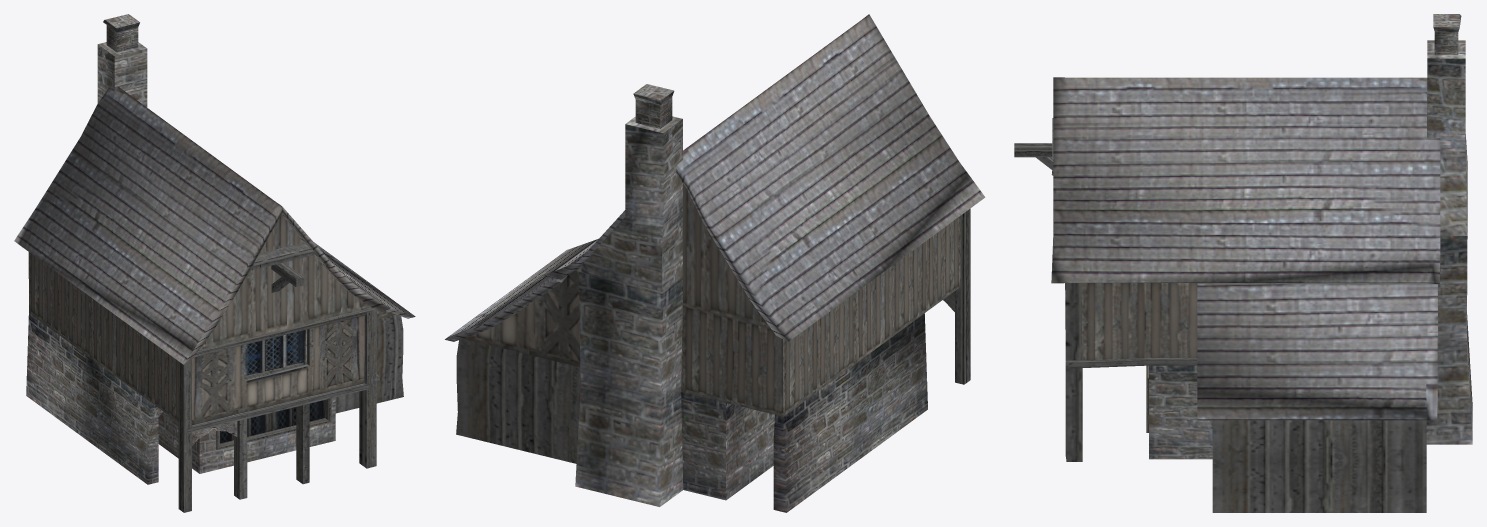
3 views of the same model, side by side, from view 1: azimuth 30°, elevation 25°; view 2: azimuth 150°, elevation 25°; view 3: azimuth 270°, elevation 25° (orthographic). The views are drawn at different scales.
Visible parts, largest first — view 1: U3DMesh; view 2: U3DMesh; view 3: U3DMesh.
Boxes of the visible parts, x1,y1,x2,y2 form: U3DMesh: (14, 14, 415, 512); U3DMesh: (445, 14, 985, 512); U3DMesh: (1014, 14, 1472, 512).
Bounding box in the file's own units: 462 × 514 × 543.
Materials: 1 (1 with a texture image).
